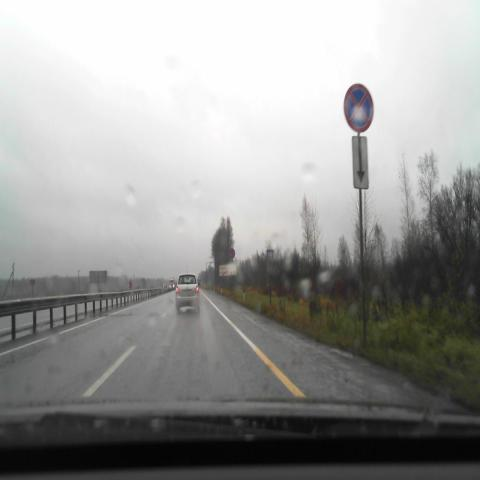8_2_3: (352, 136, 369, 189)
